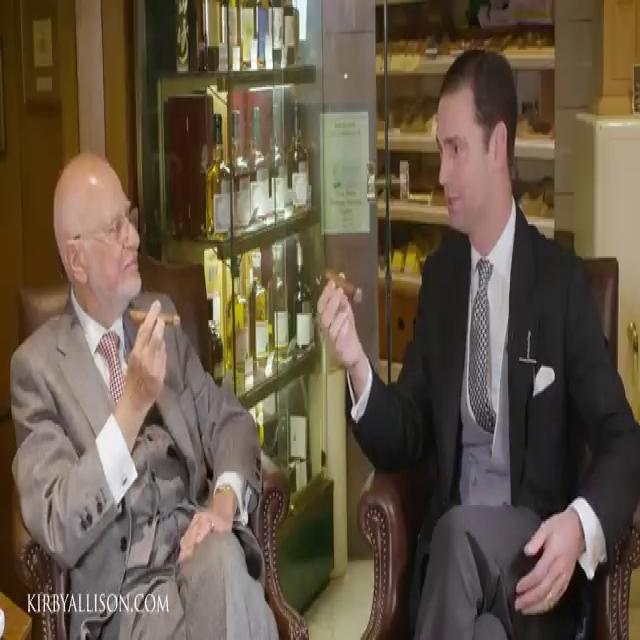Smooking: (320, 254, 370, 304), (132, 295, 186, 335)
